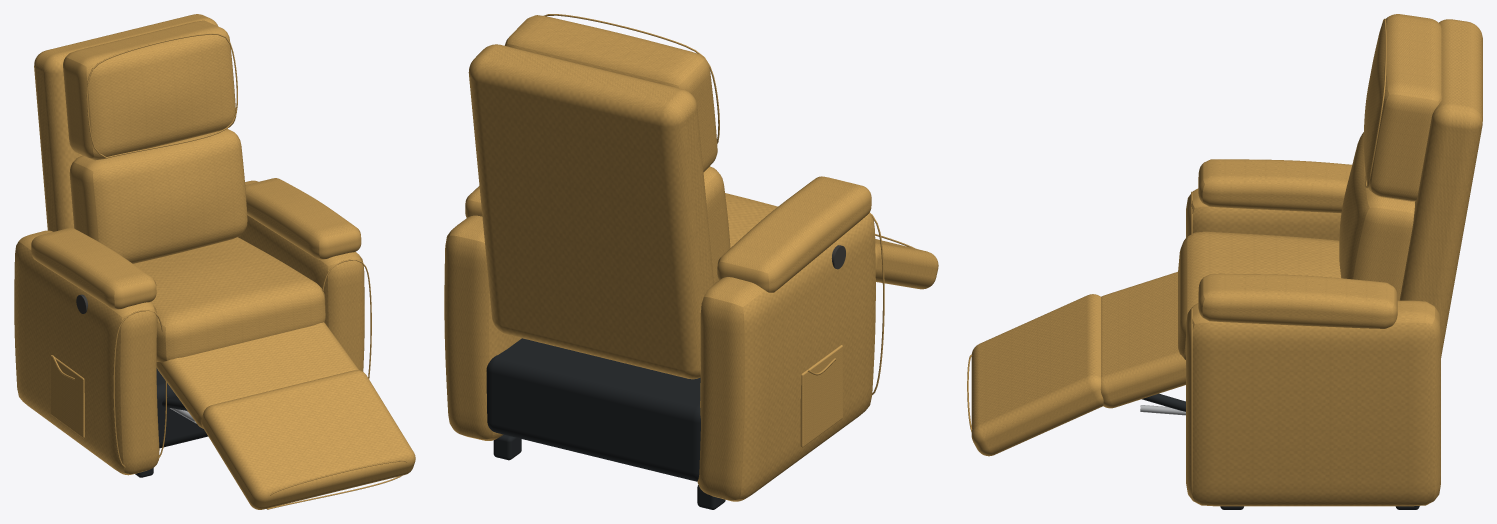
The model's file is Terra-concept.glb.
3 renders of one model, left to right at view 1: azimuth 30°, elevation 25°; view 2: azimuth 150°, elevation 25°; view 3: azimuth 270°, elevation 25°, orthographic. The views are drawn at different scales.
Parts seen in each view (by area): view 1: full recliner side -1, extended lower footrest cushion, headrest cushion, deep lumbar cushion, seat cushion, extended upper footrest cushion, high rear shell, full recliner side 1, rolled arm cushion -1, rolled arm cushion 1, stitched side pocket, inner recliner frame (+3 smaller); view 2: high rear shell, full recliner side -1, inner recliner frame, full recliner side 1, rolled arm cushion -1, headrest cushion, stitched side pocket, extended lower footrest cushion, deep lumbar cushion, seat cushion, recliner foot, headrest edge stitching; view 3: full recliner side 1, extended lower footrest cushion, high rear shell, headrest cushion, rolled arm cushion 1, extended upper footrest cushion, seat cushion, rolled arm cushion -1, deep lumbar cushion, full recliner side -1.
Boxes of the visible parts, left/top/right/bottom form: full recliner side -1: left=14, top=230, right=159, bottom=475; extended lower footrest cushion: left=201, top=370, right=415, bottom=509; headrest cushion: left=63, top=20, right=236, bottom=160; deep lumbar cushion: left=69, top=128, right=247, bottom=263; seat cushion: left=133, top=237, right=325, bottom=362; extended upper footrest cushion: left=156, top=322, right=358, bottom=428; high rear shell: left=34, top=14, right=227, bottom=231; full recliner side 1: left=238, top=180, right=364, bottom=371; rolled arm cushion -1: left=31, top=228, right=156, bottom=309; rolled arm cushion 1: left=245, top=178, right=361, bottom=259; stitched side pocket: left=50, top=355, right=84, bottom=438; inner recliner frame: left=156, top=368, right=208, bottom=448; high rear shell: left=468, top=44, right=713, bottom=379; full recliner side -1: left=697, top=213, right=875, bottom=501; inner recliner frame: left=486, top=338, right=700, bottom=481; full recliner side 1: left=444, top=215, right=521, bottom=440; rolled arm cushion -1: left=717, top=176, right=871, bottom=292; headrest cushion: left=505, top=15, right=717, bottom=171; stitched side pocket: left=800, top=345, right=842, bottom=447; extended lower footrest cushion: left=875, top=239, right=938, bottom=289; deep lumbar cushion: left=703, top=166, right=730, bottom=283; seat cushion: left=725, top=193, right=777, bottom=247; recliner foot: left=493, top=434, right=521, bottom=460; headrest edge stitching: left=543, top=14, right=719, bottom=143; full recliner side 1: left=1186, top=300, right=1440, bottom=506; extended lower footrest cushion: left=971, top=294, right=1103, bottom=456; high rear shell: left=1399, top=19, right=1482, bottom=357; headrest cushion: left=1363, top=14, right=1442, bottom=201; rolled arm cushion 1: left=1198, top=273, right=1397, bottom=328; extended upper footrest cushion: left=1100, top=272, right=1185, bottom=408; seat cushion: left=1178, top=231, right=1340, bottom=359; rolled arm cushion -1: left=1198, top=159, right=1352, bottom=212; deep lumbar cushion: left=1339, top=132, right=1414, bottom=300; full recliner side -1: left=1186, top=188, right=1341, bottom=240.
Bounding box in the file's own units: 0.858 × 1.15 × 1.29.
5 materials, 1 textured.
